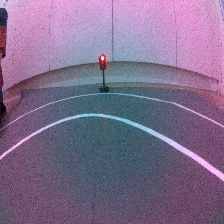red: (96, 53, 112, 94)
